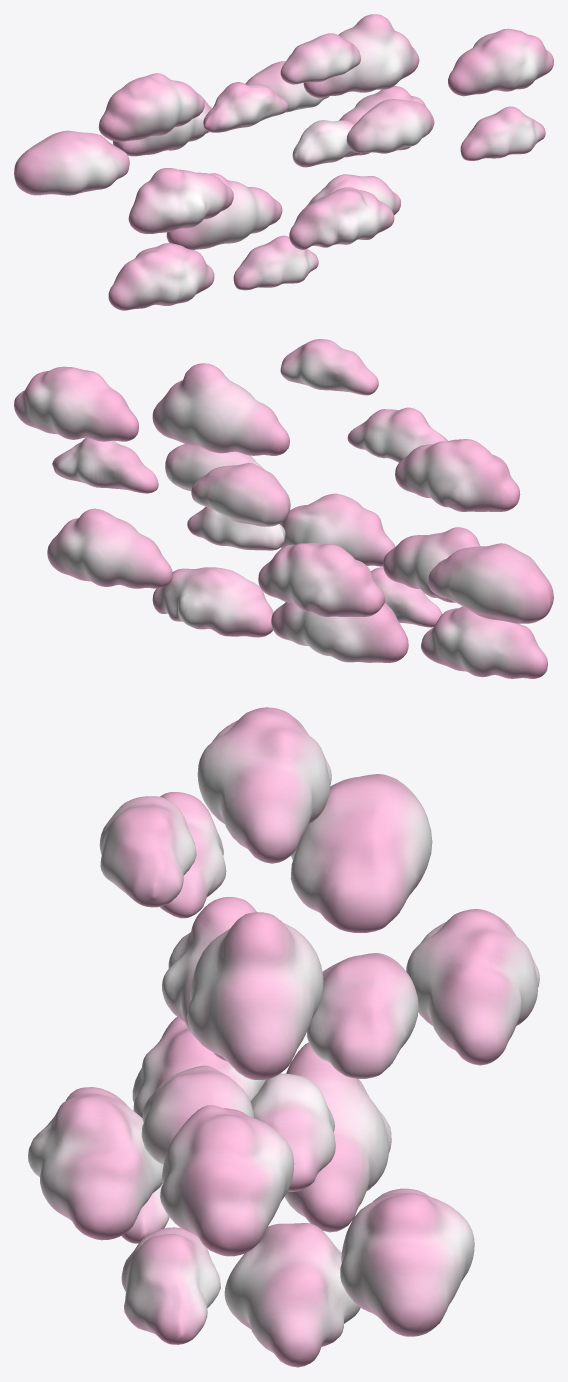
The model's file is clouds_mat.glb.
3 renders of one model, top to bottom at view 1: azimuth 30°, elevation 25°; view 2: azimuth 150°, elevation 25°; view 3: azimuth 270°, elevation 25°, orthographic. The views are drawn at different scales.
Parts seen in each view (by area): view 1: cloud.010, cloud.005, cloud.004, cloud.013, cloud.003, cloud.019, cloud.011, cloud.009, cloud.016, cloud.017, cloud.018, cloud.007 (+6 smaller); view 2: cloud.019, cloud.010, cloud.014, cloud.012, cloud.013, cloud.004, cloud.005, cloud.002, cloud.009, cloud.011, cloud.006, cloud.017 (+6 smaller); view 3: cloud.019, cloud.010, cloud.013, cloud.012, cloud.004, cloud.014, cloud.011, cloud.002, cloud.006, cloud.009, cloud.017, cloud.015 (+6 smaller).
Boxes of the visible parts, left/top/right/bottom form: cloud.010: left=14, top=130, right=129, bottom=195; cloud.005: left=108, top=243, right=214, bottom=310; cloud.004: left=98, top=73, right=204, bottom=141; cloud.013: left=448, top=28, right=553, bottom=96; cloud.003: left=128, top=168, right=233, bottom=233; cloud.019: left=303, top=14, right=419, bottom=97; cloud.011: left=289, top=187, right=394, bottom=249; cloud.009: left=166, top=173, right=282, bottom=249; cloud.016: left=346, top=99, right=432, bottom=153; cloud.017: left=460, top=106, right=545, bottom=160; cloud.018: left=233, top=235, right=318, bottom=290; cloud.007: left=203, top=82, right=288, bottom=132; cloud.019: left=152, top=363, right=289, bottom=455; cloud.010: left=428, top=543, right=553, bottom=623; cloud.014: left=258, top=543, right=385, bottom=617; cloud.012: left=47, top=508, right=172, bottom=588; cloud.013: left=14, top=366, right=138, bottom=441; cloud.004: left=395, top=439, right=520, bottom=511; cloud.005: left=421, top=606, right=547, bottom=678; cloud.002: left=152, top=567, right=273, bottom=637; cloud.009: left=271, top=602, right=408, bottom=662; cloud.011: left=279, top=493, right=395, bottom=566; cloud.006: left=191, top=463, right=290, bottom=526; cloud.017: left=52, top=437, right=158, bottom=493; cloud.019: left=187, top=912, right=323, bottom=1079; cloud.010: left=290, top=774, right=432, bottom=932; cloud.013: left=160, top=1105, right=294, bottom=1256; cloud.012: left=340, top=1188, right=474, bottom=1336; cloud.004: left=197, top=707, right=331, bottom=863; cloud.014: left=406, top=909, right=539, bottom=1065; cloud.011: left=28, top=1087, right=163, bottom=1240; cloud.002: left=224, top=1223, right=360, bottom=1367; cloud.006: left=306, top=953, right=418, bottom=1078; cloud.009: left=284, top=1042, right=391, bottom=1232; cloud.017: left=121, top=1227, right=220, bottom=1344; cloud.015: left=99, top=796, right=196, bottom=907.
Bounding box in the file's own units: 25.02 × 11.46 × 11.12.
Materials: 1 (1 with a texture image).
